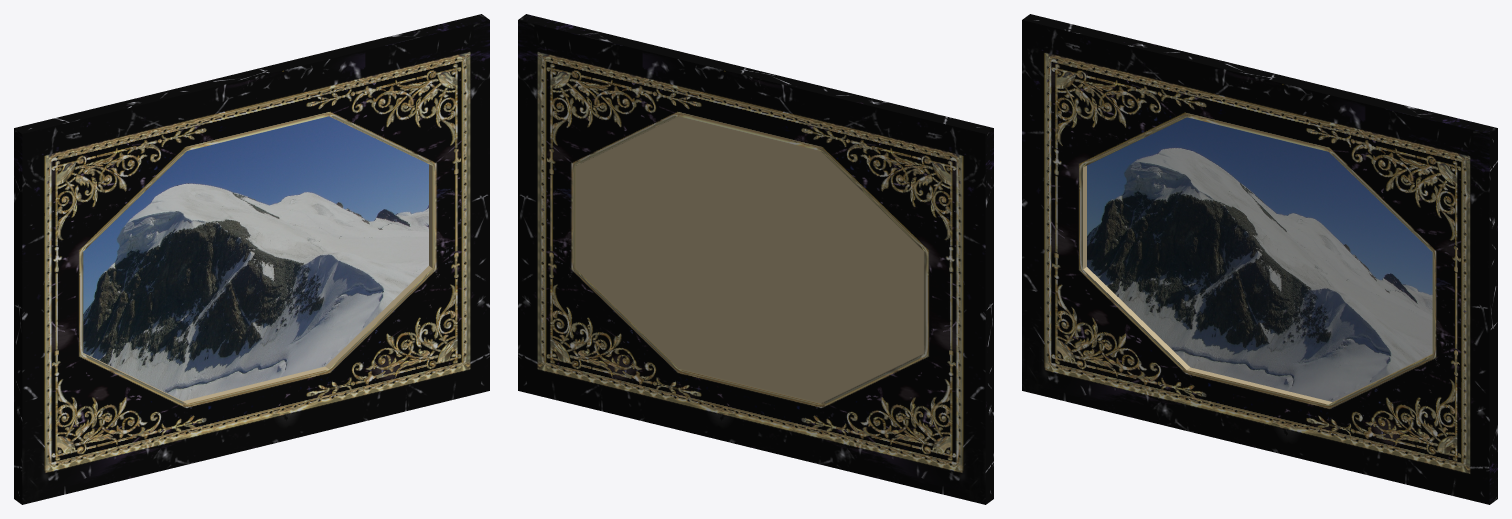
The model's file is Frame_010.FBX.
3 renders of one model, left to right at view 1: azimuth 30°, elevation 25°; view 2: azimuth 150°, elevation 25°; view 3: azimuth 330°, elevation 25°, orthographic.
Parts seen in each view (by area): view 1: Frame_010; view 2: Frame_010; view 3: Frame_010.
Boxes of the visible parts, x1,y1,x2,y2 form: Frame_010: (14,14,489,504); Frame_010: (518,14,993,504); Frame_010: (1022,14,1497,504).
Bounding box in the file's own units: 1188 × 36 × 900.
